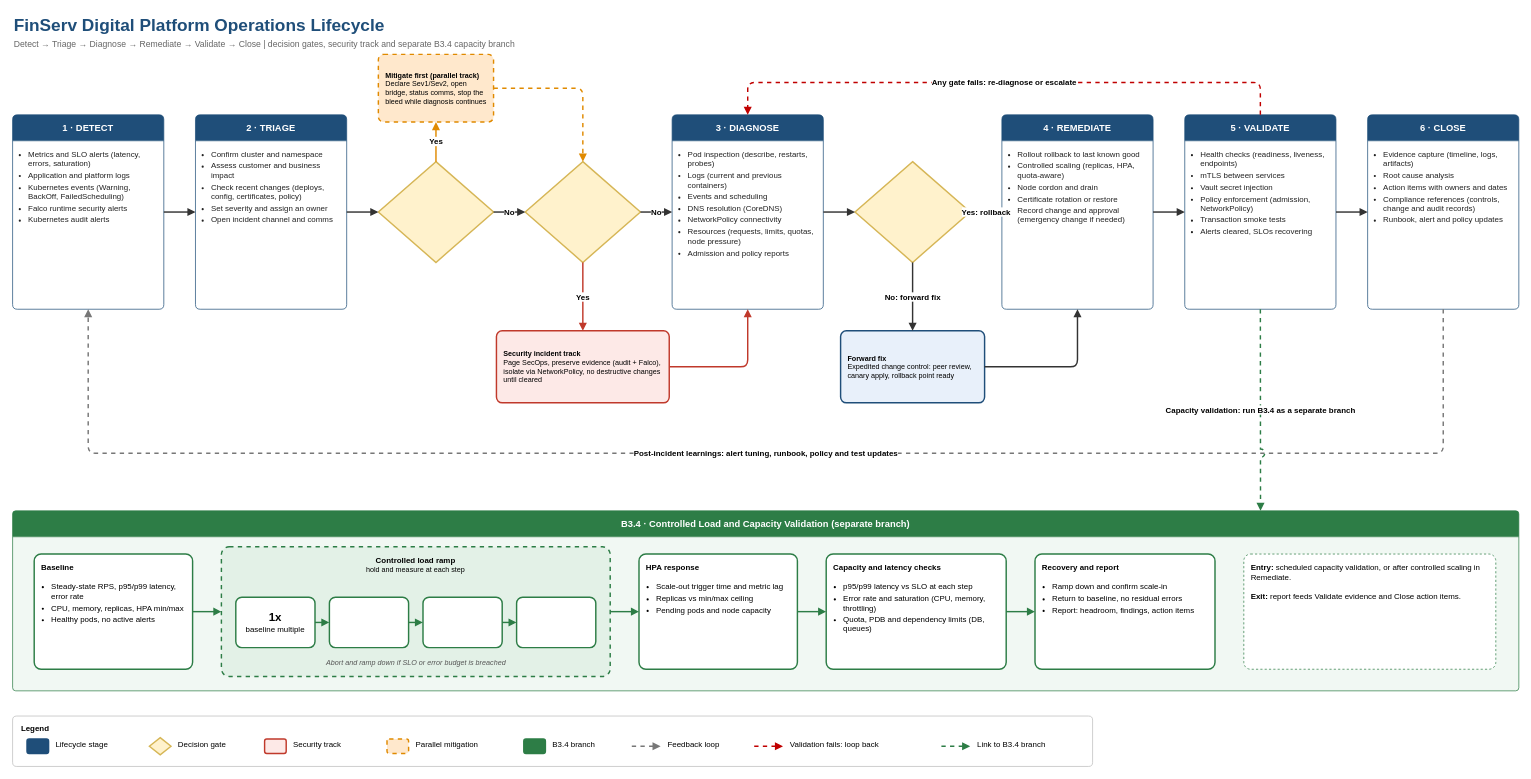
Some shapes in this 1531 by 779 pixel diagram are drawn without their labels. The centre of each missing label's shape, as x and y in pixels:
2x baseline multiple: point (368, 622)
3x baseline multiple: point (462, 622)
5x baseline multiple: point (556, 622)
Is customer impact ongoing?: point (435, 212)
Is rollback safer than forward fix?: point (912, 212)
Is the event security-related?: point (582, 212)
